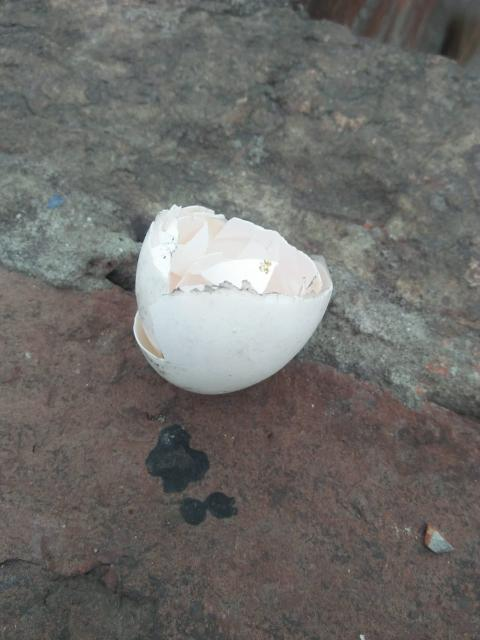Roto: (132, 202, 334, 395)
